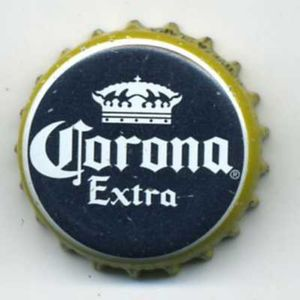corona: (10, 16, 276, 289)
